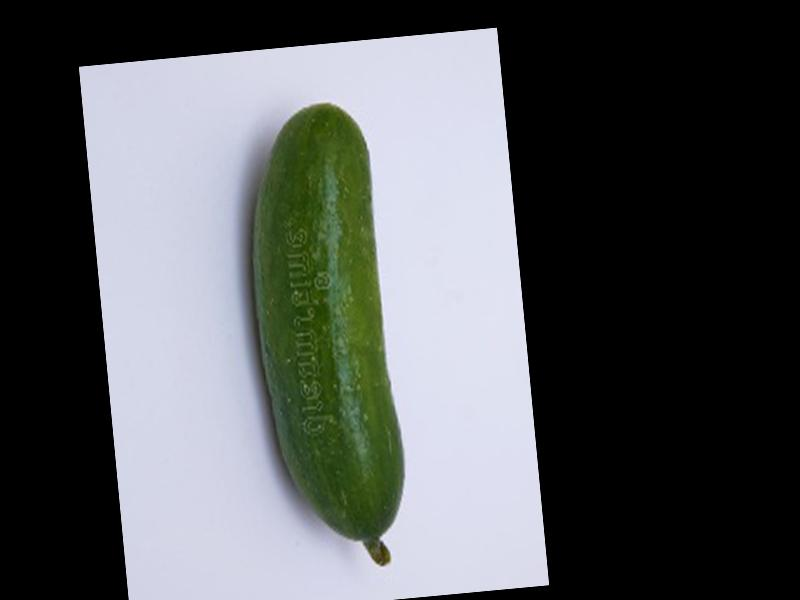Cucumber: (236, 98, 412, 575)
